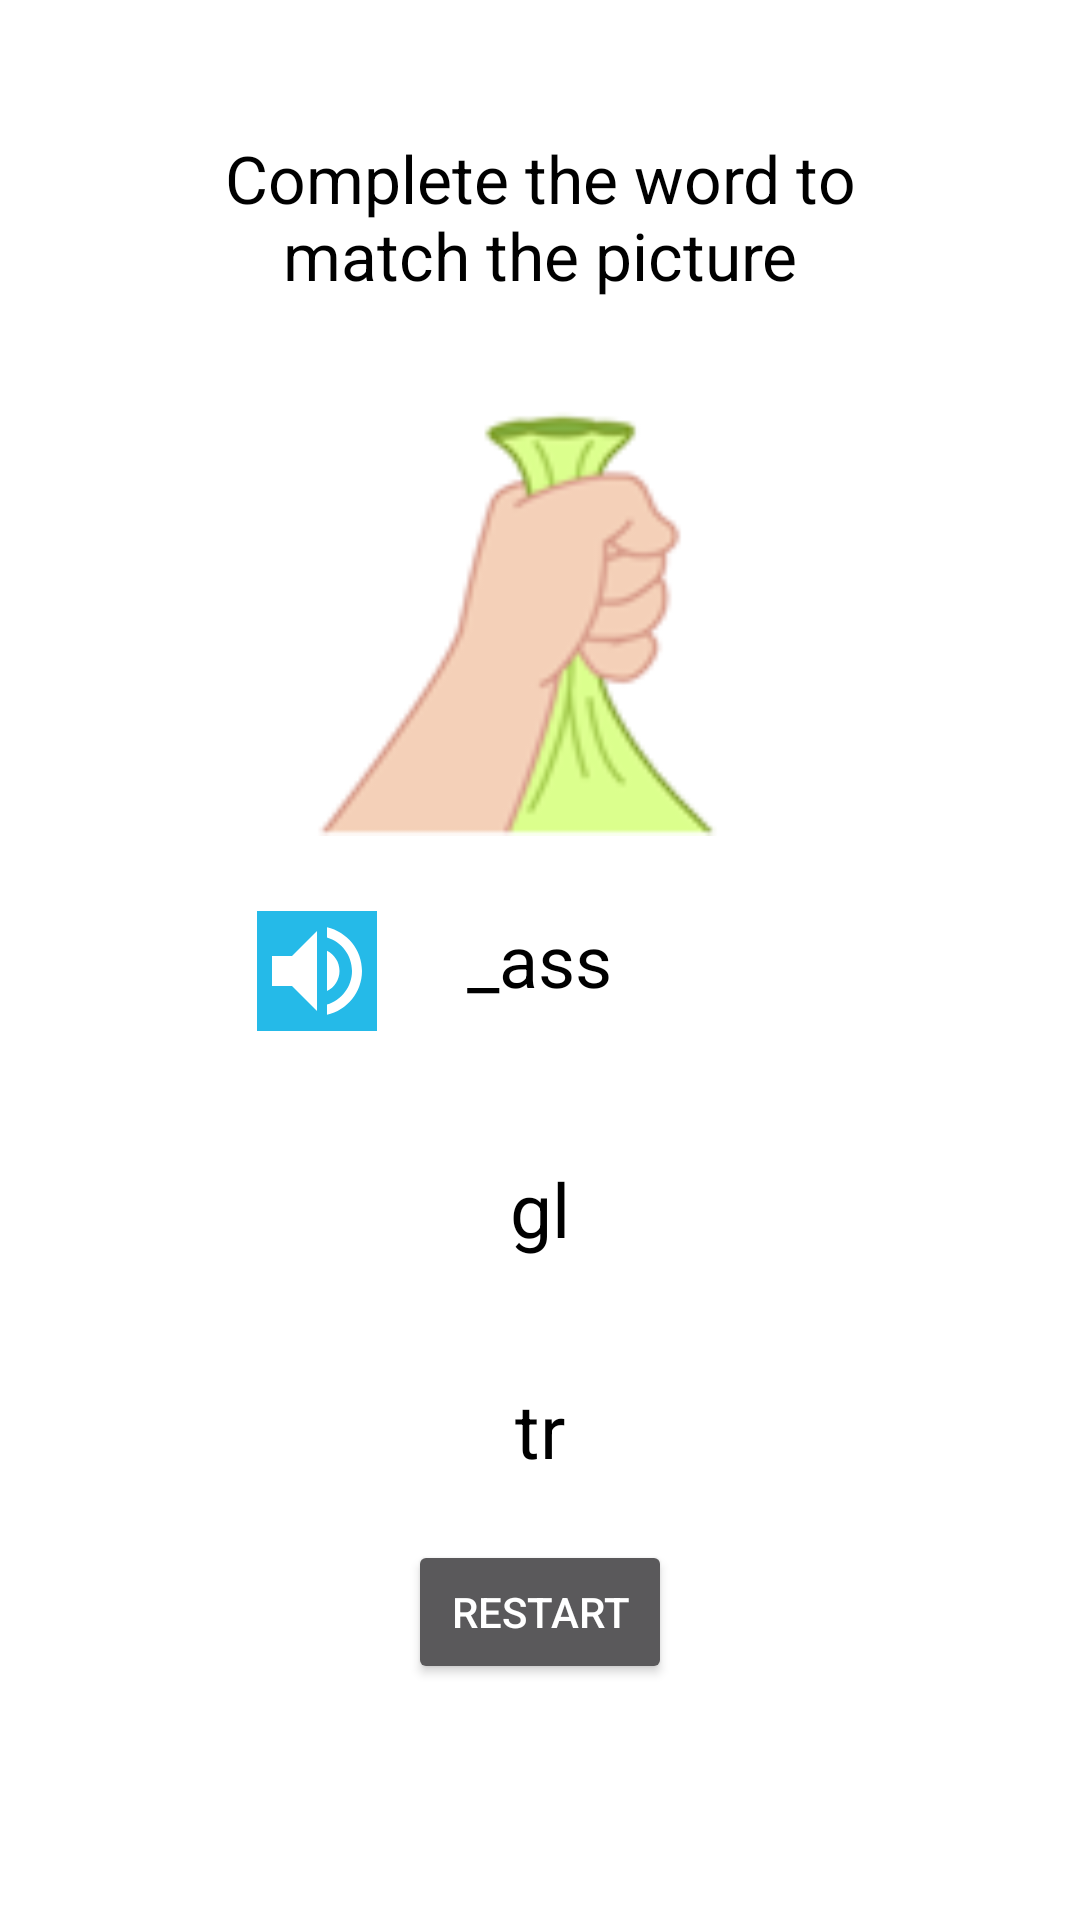

Screen size 1080px×1920px. Icon name, then its box in pixels as (x1, y1, x2, y2):
volume up: (257, 911, 377, 1031)
